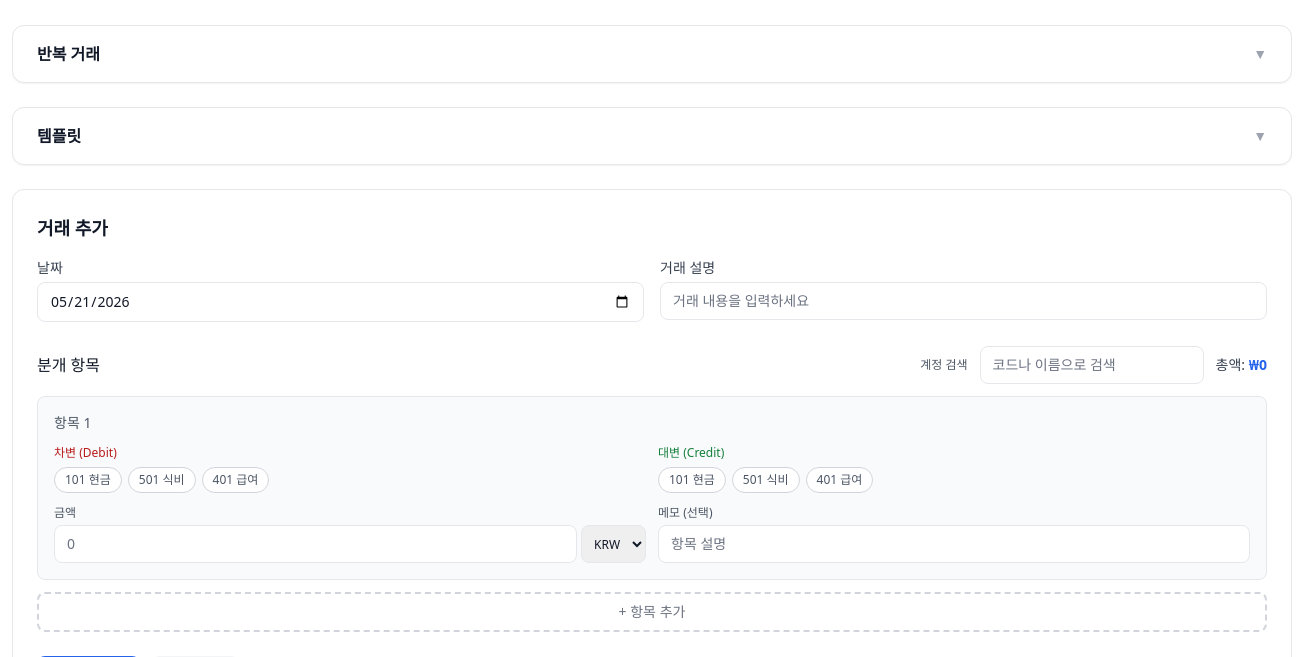
Scenario: TransactionsPage › 폼 초기화가 동작한다
Expected: the heading "거래 추가" is shown, [37, 214, 108, 242]
Step 1. Type "테스트" into the field with placeholder "거래 내용을 입력하세요" → {"x": 964, "y": 301}, box [660, 282, 1267, 320]
(page scrolled)
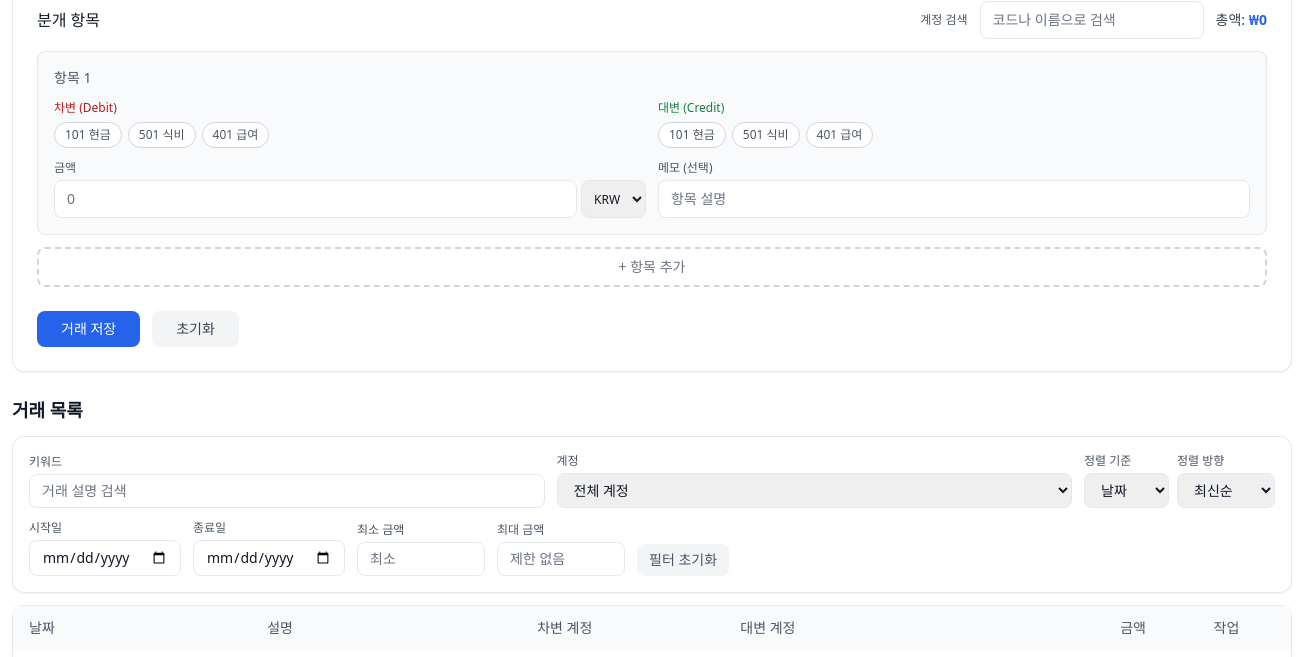
Step 2. Click the button "초기화" → {"x": 196, "y": 329}, box [152, 311, 239, 347]
(page scrolled)
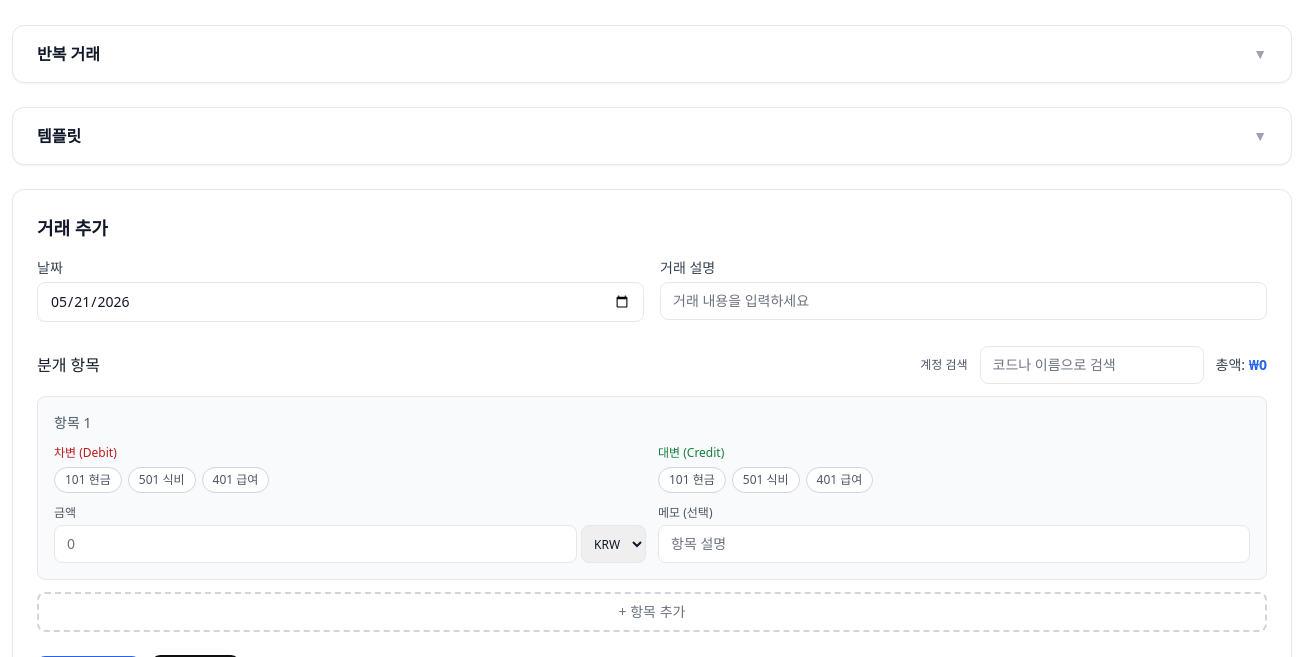
Now the field with placeholder "거래 내용을 입력하세요" is empty, box [660, 282, 1267, 320]
